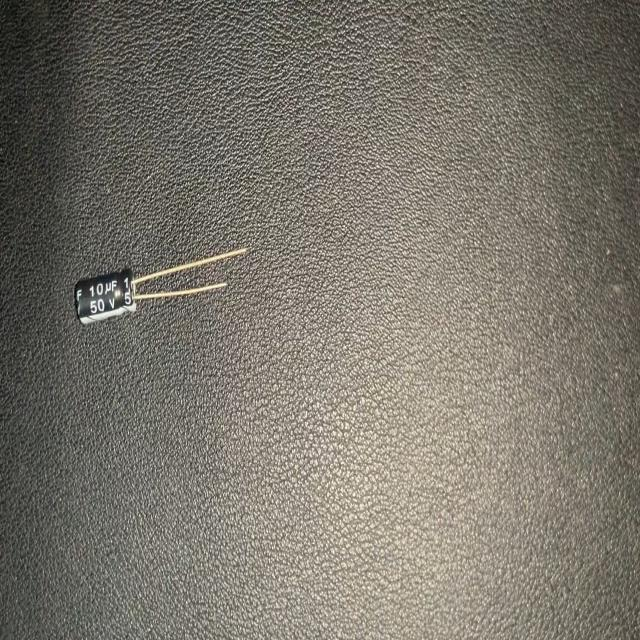capacitor: (70, 243, 251, 331)
